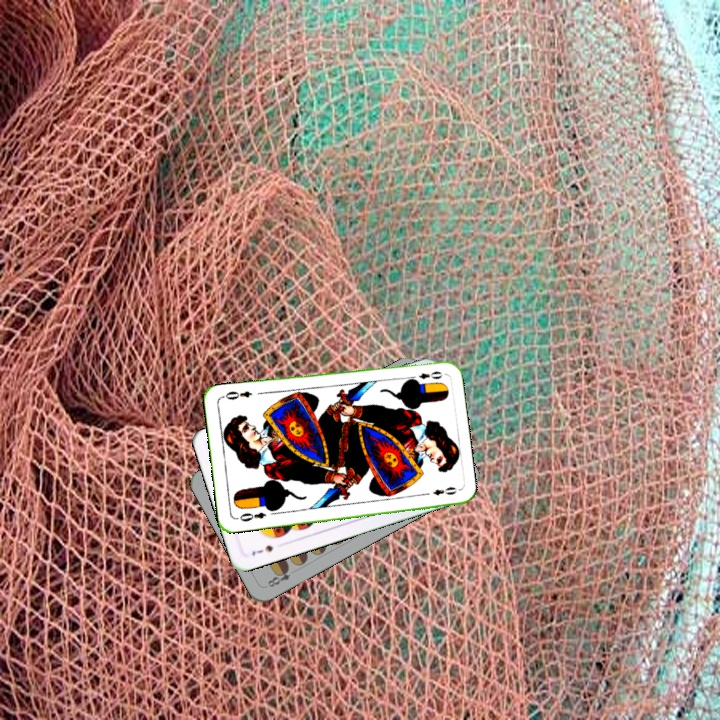E8: (264, 563, 293, 590)
EO: (406, 367, 445, 384), (232, 508, 268, 524)
S7: (248, 541, 276, 558)
